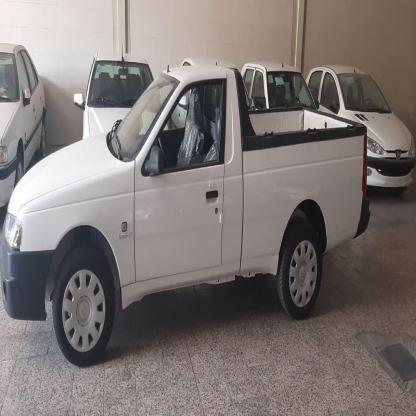Car: (1, 71, 369, 335), (313, 61, 416, 189), (78, 51, 164, 152), (0, 41, 47, 218), (246, 50, 330, 123)
